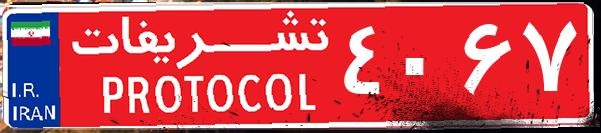0: (400, 20, 460, 115)
4: (340, 20, 400, 115)
6: (460, 20, 520, 115)
7: (520, 20, 580, 115)
تشریفات: (60, 8, 340, 125)
